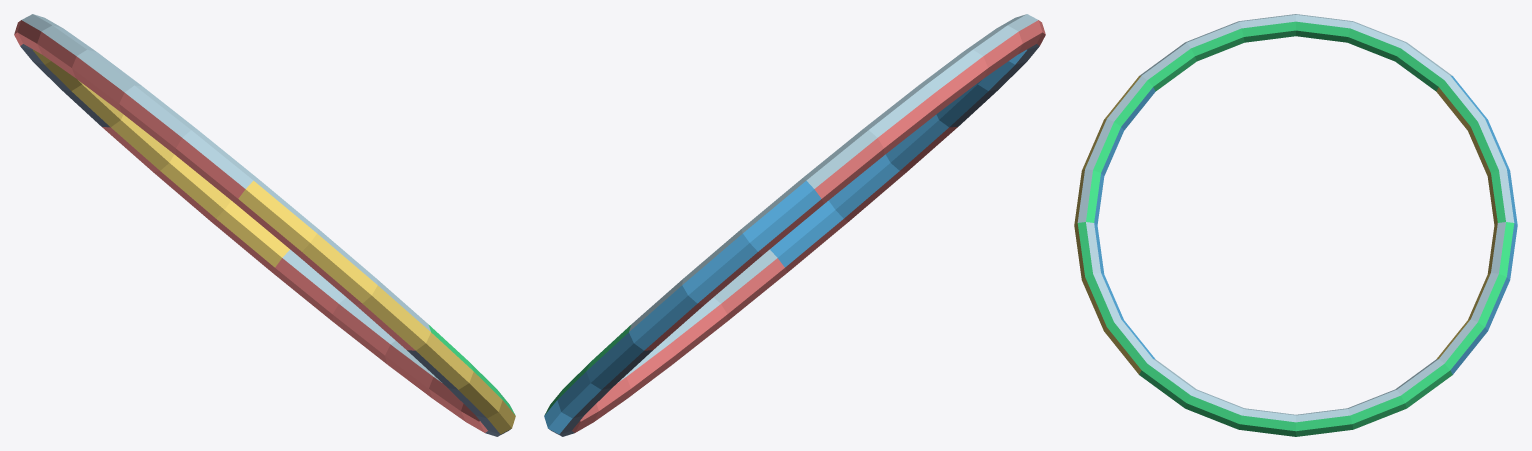
Rendered from pylon_ring_3.obj.
3 renders of one model, left to right at view 1: azimuth 30°, elevation 25°; view 2: azimuth 150°, elevation 25°; view 3: azimuth 270°, elevation 25°, orthographic. The views are drawn at different scales.
Parts seen in each view (by area): view 1: torus; view 2: torus; view 3: torus.
Boxes of the visible parts, left/top/right/bottom form: torus: left=14, top=14, right=515, bottom=436; torus: left=544, top=14, right=1045, bottom=436; torus: left=1074, top=14, right=1517, bottom=436.
Size of the model in its own units: 0.4112 by 0.4459 by 0.5938.
1 material, 1 textured.
